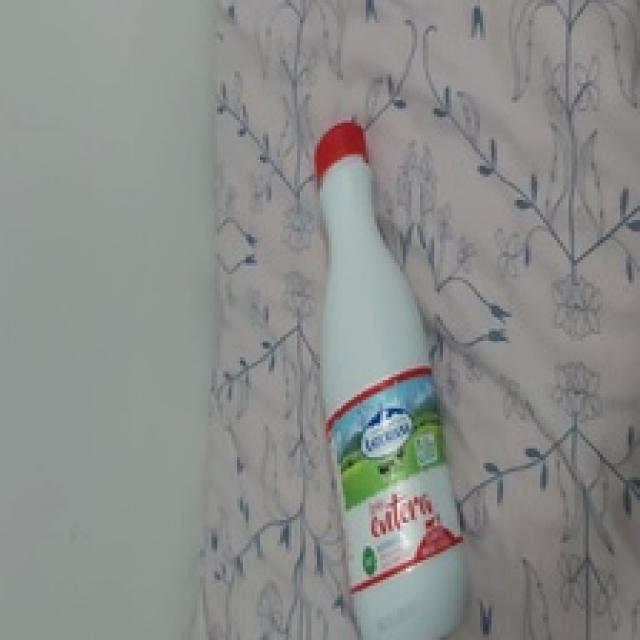Plastic: (313, 117, 472, 640)
